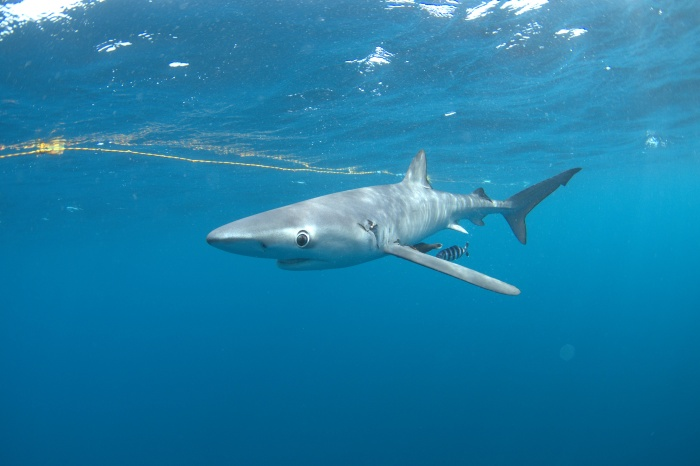Azul: (178, 131, 603, 324)
